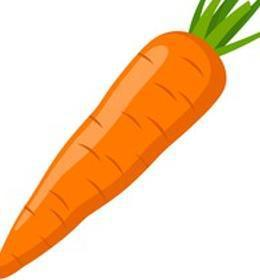carrot: (0, 16, 244, 262)
